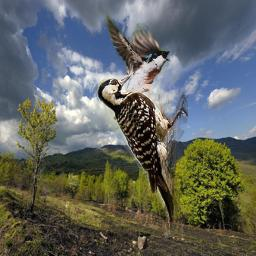Swallow: (102, 10, 171, 125)
Woodpecker: (97, 75, 188, 228)
